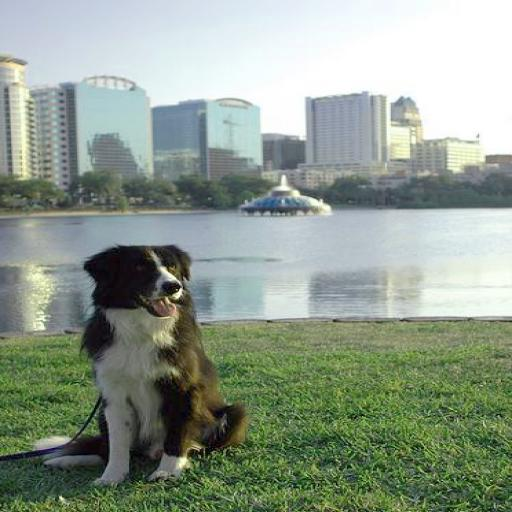dog_face: (67, 237, 212, 319)
